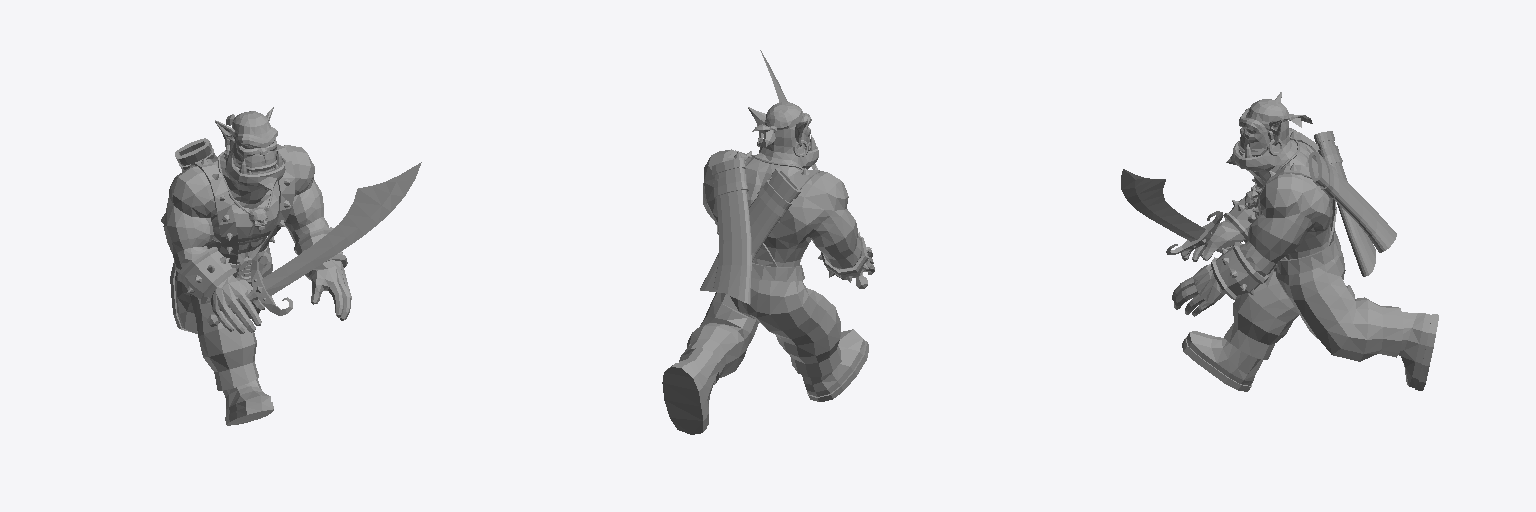
File: sinbad_000006.obj
The picture shows the model from 3 angles: view 1: azimuth 30°, elevation 25°; view 2: azimuth 150°, elevation 25°; view 3: azimuth 270°, elevation 25°; orthographic projection.
Visible parts, largest first — view 1: Sinbad, Sword; view 2: Sinbad; view 3: Sinbad, Sword.
Part boxes in pixels (left/top/right/bottom): Sinbad: left=161, top=107, right=351, bottom=425; Sword: left=207, top=162, right=421, bottom=326; Sinbad: left=662, top=102, right=874, bottom=434; Sinbad: left=1172, top=92, right=1438, bottom=391; Sword: left=1121, top=169, right=1231, bottom=254.
Size of the model in its own units: 5.28 by 8.58 by 8.32.